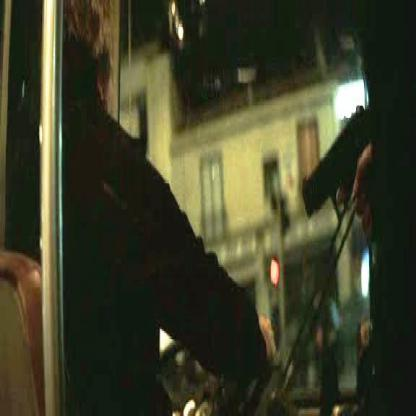Guns: (299, 99, 378, 239)
